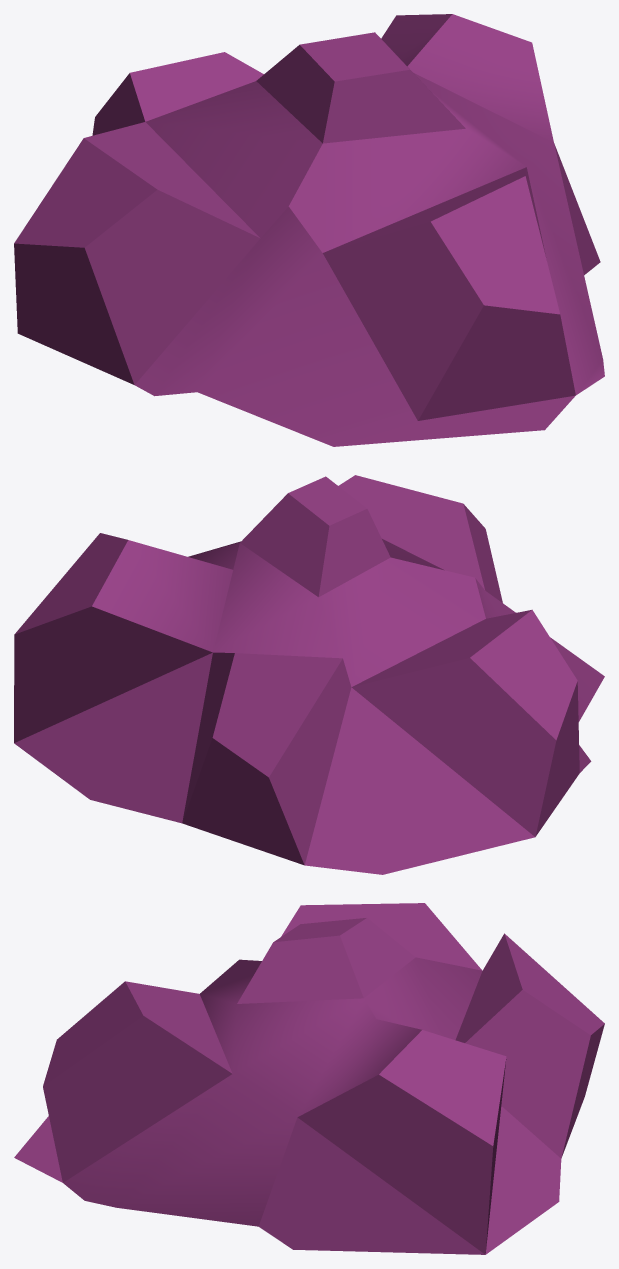
Rendered from Purified Ore.fbx.
3 views of the same model, one above another, from view 1: azimuth 30°, elevation 25°; view 2: azimuth 150°, elevation 25°; view 3: azimuth 270°, elevation 25° (orthographic). The views are drawn at different scales.
Parts seen in each view (by area): view 1: Purified_Ore; view 2: Purified_Ore; view 3: Purified_Ore.
Part boxes in pixels (left/top/right/bottom): Purified_Ore: left=14, top=14, right=604, bottom=446; Purified_Ore: left=14, top=475, right=604, bottom=874; Purified_Ore: left=14, top=903, right=604, bottom=1254.
Bounding box in the file's own units: 1.3 × 0.5992 × 1.4.
